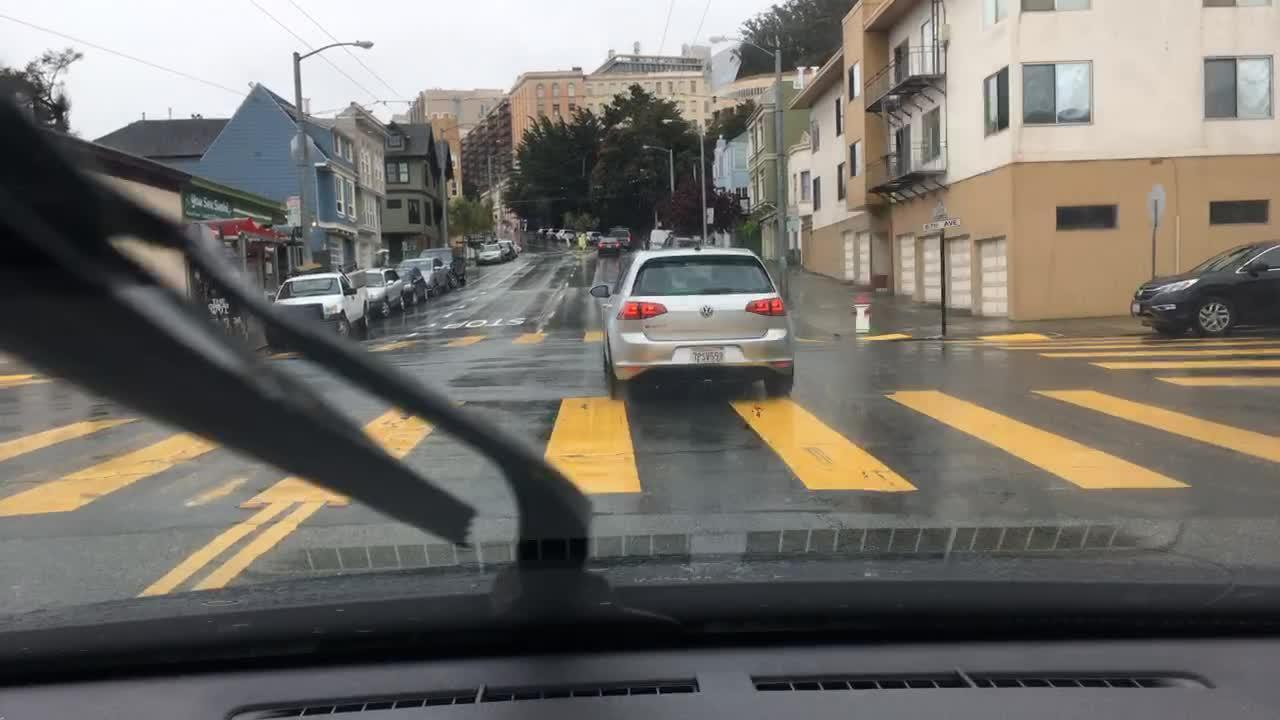Volkswagen: (700, 303, 719, 323)
